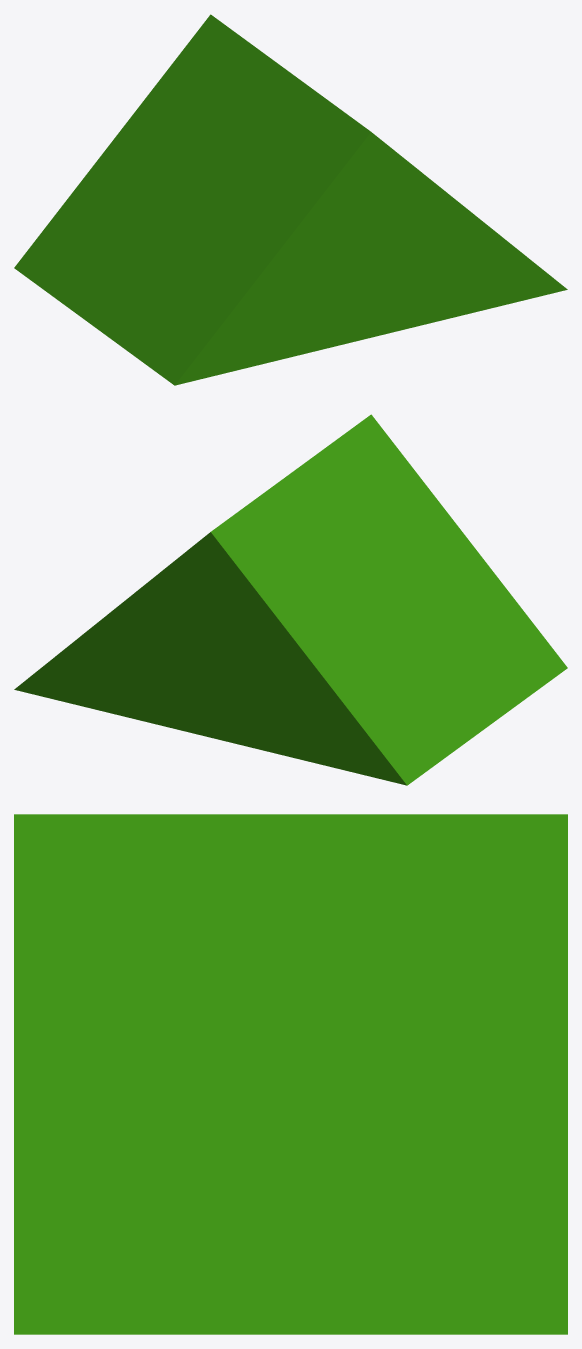
The picture shows the model from 3 angles, top to bottom: view 1: azimuth 30°, elevation 25°; view 2: azimuth 150°, elevation 25°; view 3: azimuth 270°, elevation 25°; orthographic projection. The views are drawn at different scales.
Visible parts, largest first — view 1: Cube.002; view 2: Cube.002; view 3: Cube.002.
Part boxes in pixels (<box>): Cube.002: <box>14,14,567,385</box>; Cube.002: <box>14,414,567,785</box>; Cube.002: <box>14,814,567,1334</box>.
Bounding box in the file's own units: 283 × 141 × 200.
